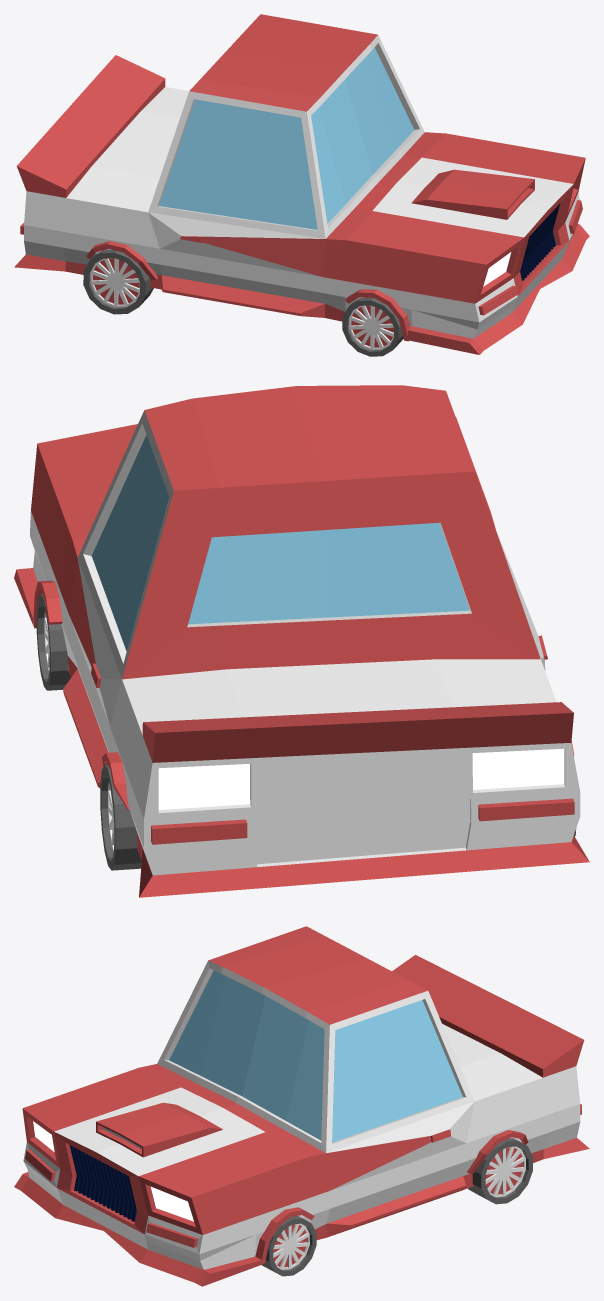
File: car.fbx
The picture shows the model from 3 angles, top to bottom: view 1: azimuth 30°, elevation 25°; view 2: azimuth 150°, elevation 25°; view 3: azimuth 270°, elevation 25°; orthographic projection. The views are drawn at different scales.
Parts seen in each view (by area): view 1: body, wheel_1, wheel1_1, lattice_1, front_fender, rear_fender; view 2: body, backlight, wheel_1, wheel1_1, front_fender, rear_fender; view 3: body, wheel_1, lattice_1, wheel1_1, headlight, front_fender, rear_fender.
Boxes of the visible parts, x1=… form: body: x1=14, y1=14, x2=589, y2=354; wheel_1: x1=83, y1=250, x2=153, y2=314; wheel1_1: x1=342, y1=297, x2=403, y2=356; lattice_1: x1=520, y1=203, x2=560, y2=280; front_fender: x1=345, y1=289, x2=410, y2=341; rear_fender: x1=86, y1=241, x2=157, y2=279; body: x1=14, y1=385, x2=589, y2=897; backlight: x1=158, y1=748, x2=564, y2=809; wheel_1: x1=100, y1=764, x2=576, y2=870; wheel1_1: x1=36, y1=594, x2=71, y2=690; front_fender: x1=33, y1=580, x2=62, y2=628; rear_fender: x1=102, y1=741, x2=574, y2=809; body: x1=14, y1=926, x2=589, y2=1286; wheel_1: x1=468, y1=1138, x2=532, y2=1204; lattice_1: x1=69, y1=1145, x2=136, y2=1221; wheel1_1: x1=261, y1=1216, x2=316, y2=1276; headlight: x1=33, y1=1121, x2=193, y2=1221; front_fender: x1=255, y1=1207, x2=314, y2=1264; rear_fender: x1=467, y1=1130, x2=528, y2=1173.
Size of the model in its own units: 0.5033 by 0.2216 by 0.5329.
